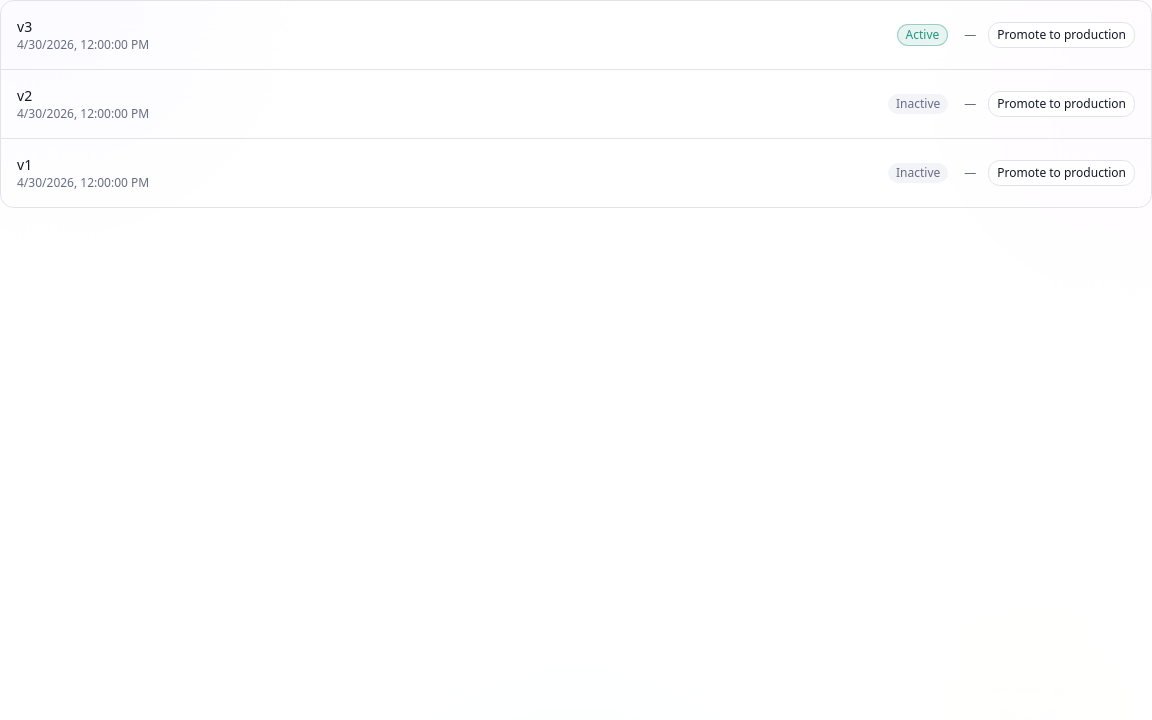
Scenario: AgentVersionsList › closes the diff modal when Close is pressed
This screenshot has width=1152, height=720.
Click the button with test id "agent-version-row-2": (83, 114) [17, 86, 948, 122]
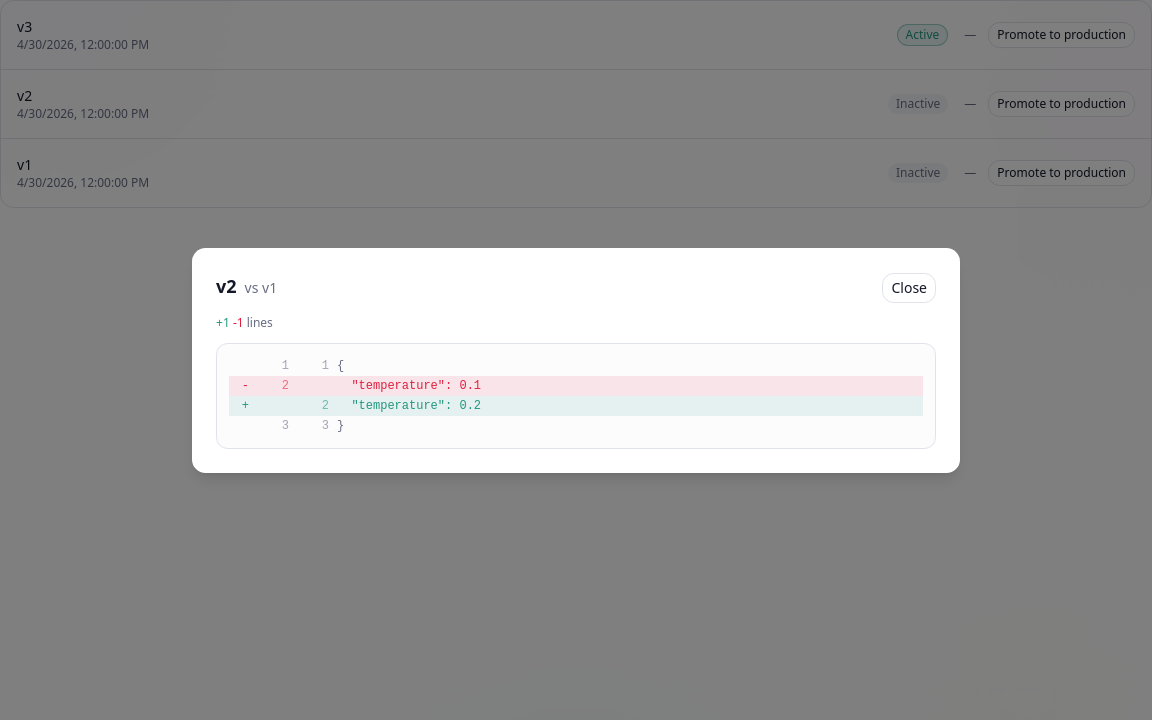
Click the button with test id "diff-viewer-close": (909, 288) [882, 272, 936, 302]
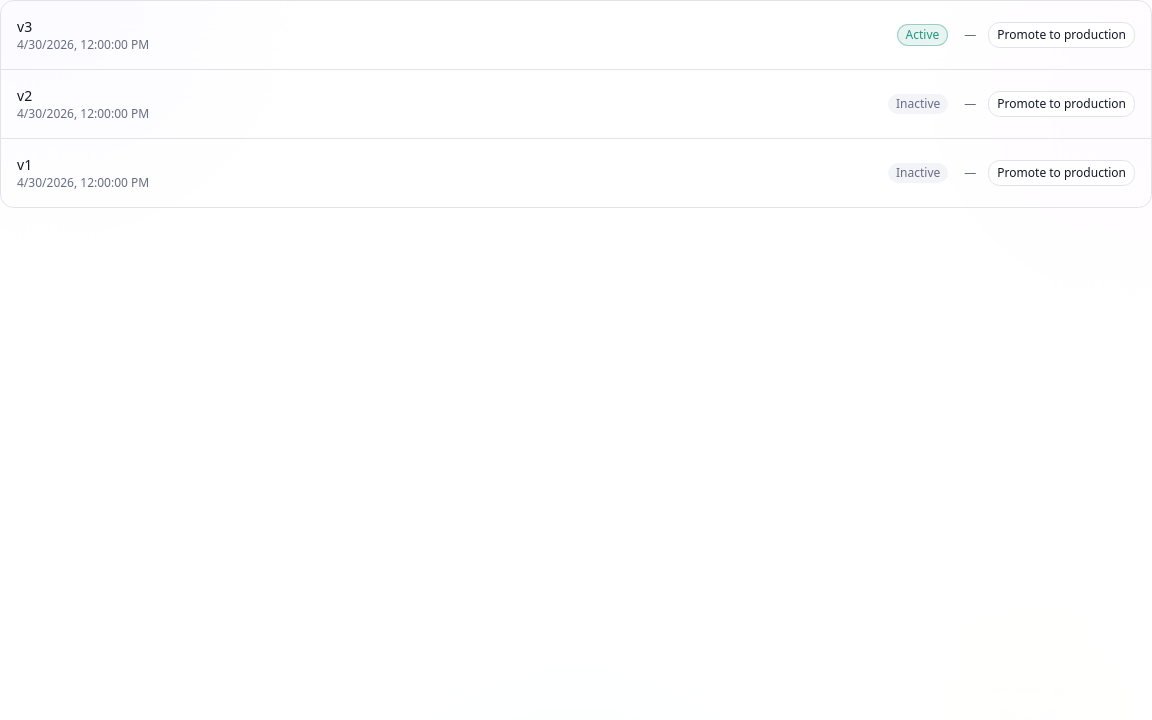
Now the dialog with test id "diff-viewer-modal" is gone
